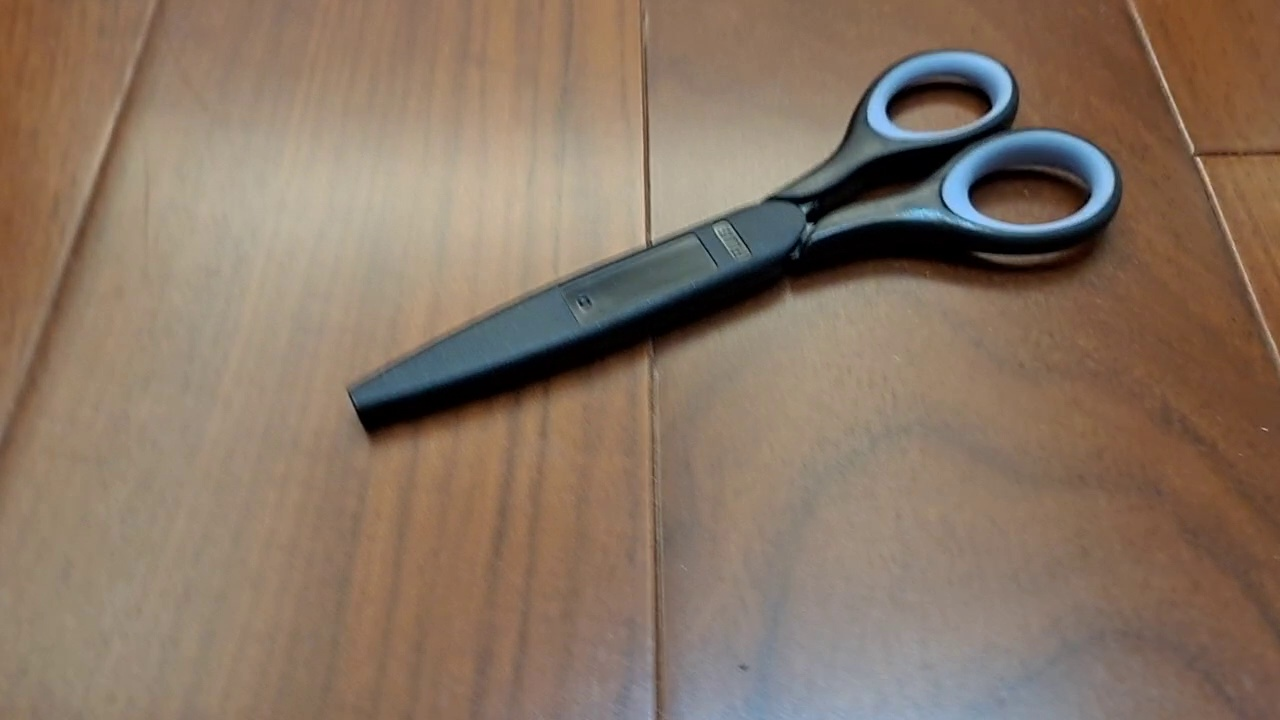scissors: (344, 44, 1125, 439)
